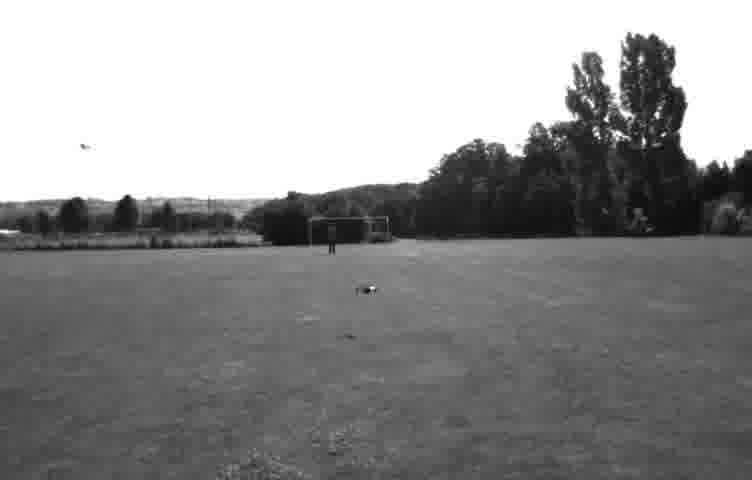drone: (350, 282, 381, 296)
